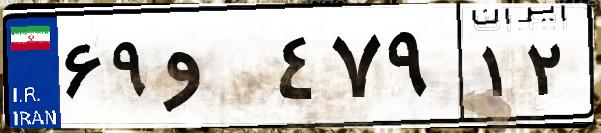1: (475, 38, 525, 113)
2: (525, 38, 570, 115)
4: (270, 28, 330, 110)
6: (57, 26, 110, 100)
7: (330, 28, 385, 110)
9: (385, 28, 445, 110), (110, 28, 158, 98)
و: (158, 20, 270, 120)
